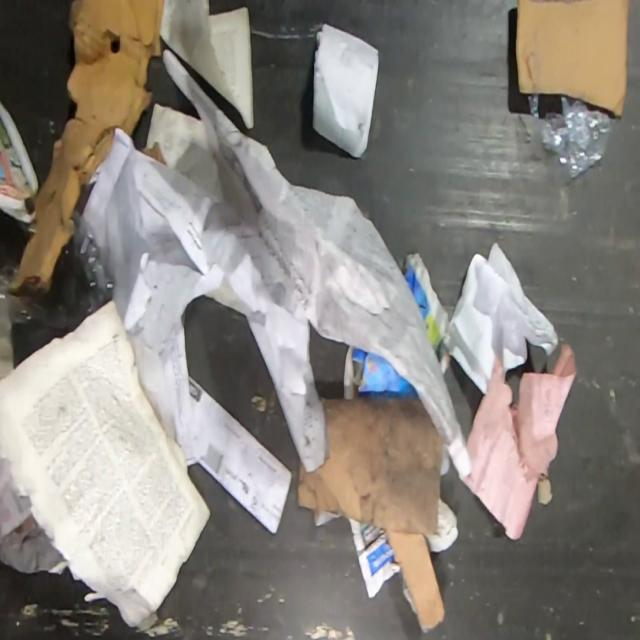cardboard: (8, 0, 165, 301), (296, 395, 444, 635), (516, 0, 630, 118)
rigid_plastic: (0, 214, 114, 330), (527, 93, 610, 178)
